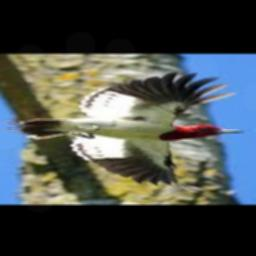Woodpecker: (8, 73, 245, 190)
